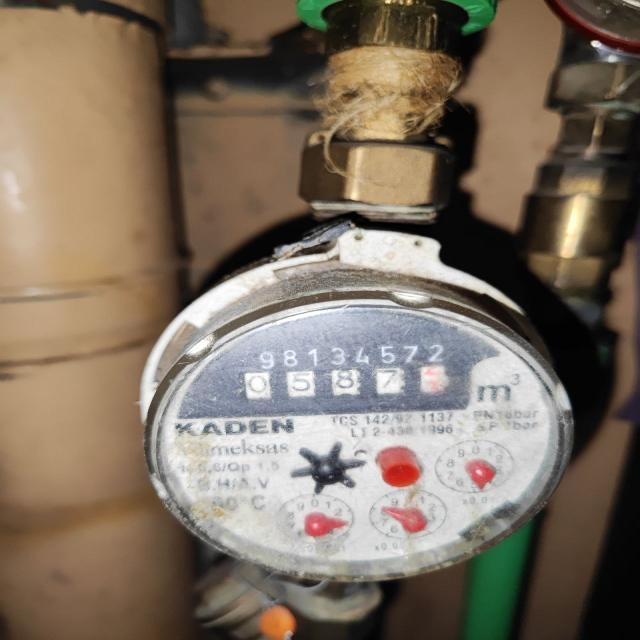Circle: (138, 286, 574, 585), (434, 437, 516, 495), (368, 488, 448, 541), (275, 492, 353, 546), (379, 462, 422, 489)
